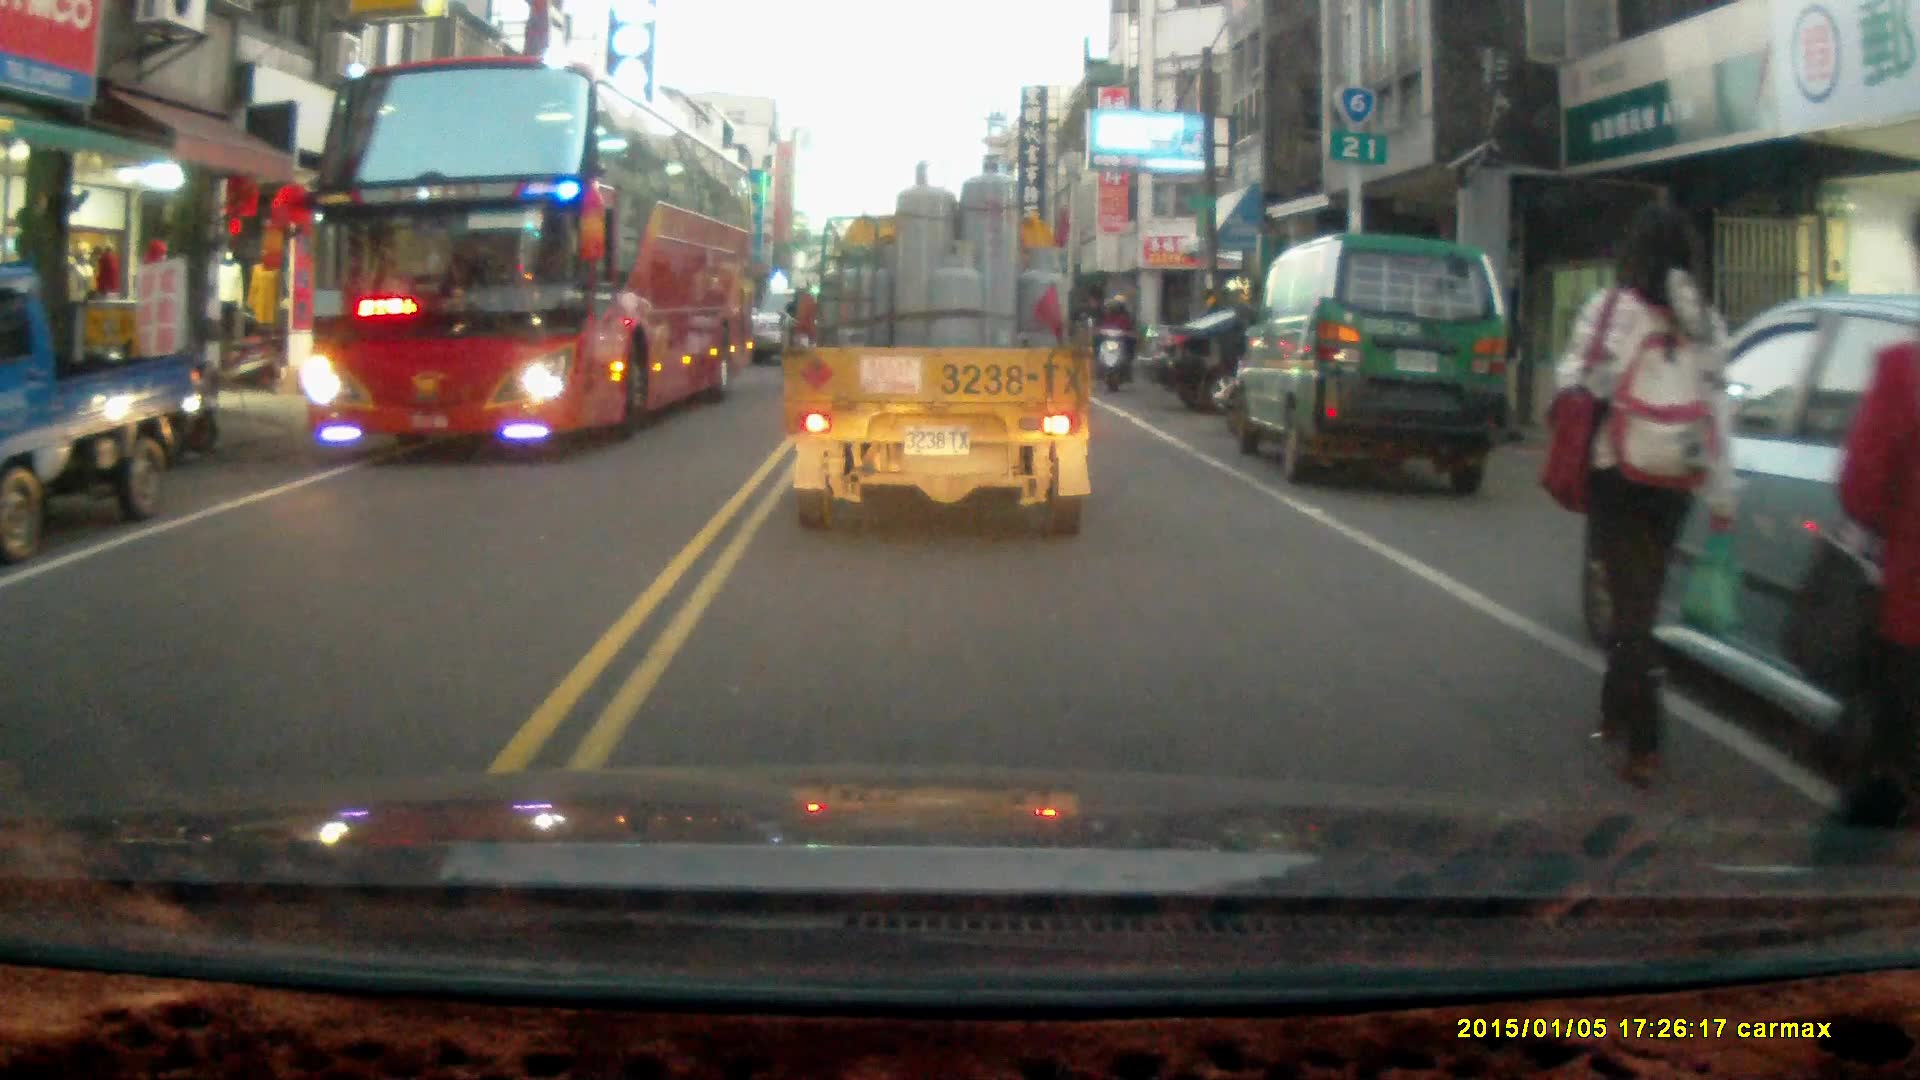pedestrian: (1548, 195, 1739, 787), (1841, 331, 1920, 877)
rider: (1089, 288, 1135, 387)
vehicle: (297, 58, 764, 456), (786, 153, 1096, 540), (1234, 231, 1509, 488), (1, 275, 205, 559), (1134, 303, 1436, 409)
